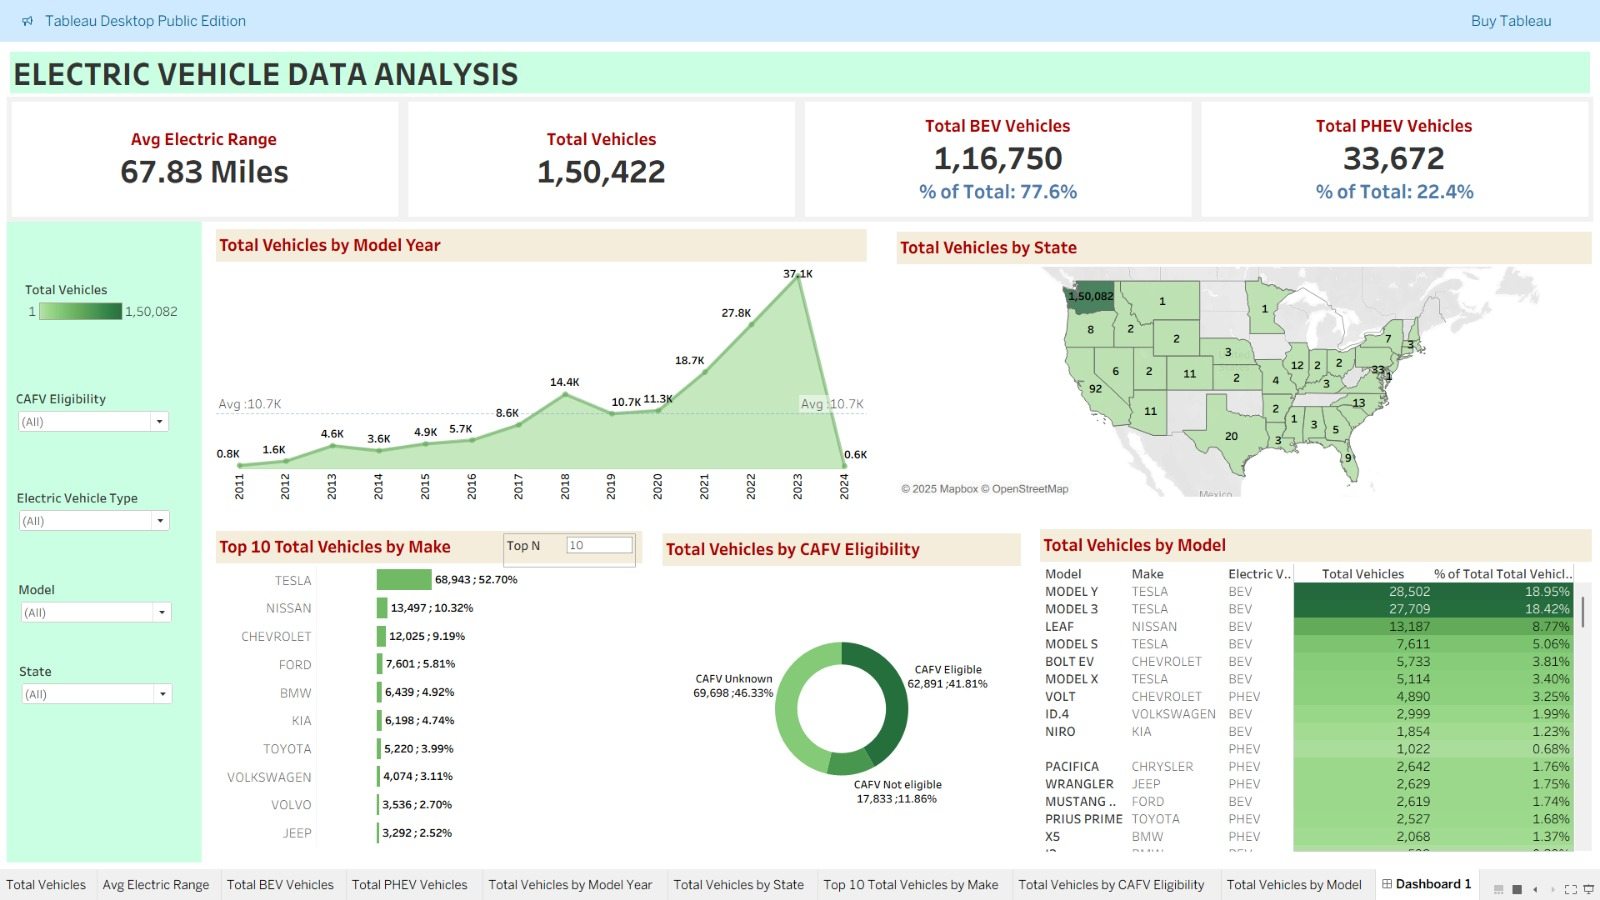

The dashboard page shown, as its layout file describes it:
{"tool":"tableau","page":{"name":"Dashboard 1","canvas":[1000,1000],"units":"permille","ordinal":0},"visuals":[{"type":"title","box":[4.9,8.9,990.2,64.5]},{"type":"worksheet","title":"Avg Electric Range","mark":"Automatic","box":[4.9,73.3,248,144.5]},{"type":"worksheet","title":"Total Vehicles","mark":"Automatic","box":[252.9,73.3,247.4,144.5]},{"type":"worksheet","title":"Total BEV Vehicles","mark":"Automatic","box":[500.3,73.3,247.4,144.5]},{"type":"worksheet","title":"Total PHEV Vehicles ","mark":"Automatic","box":[747.7,73.3,247.4,144.5]},{"type":"image","param":"C:/Users/shrad/Downloads/pngtree-vector-electric-car-icon-charging-tag-electrici","box":[4.9,217.8,122.5,396.7]},{"type":"worksheet","title":"Total Vehicles by Model Year","mark":"Area","rows":["Calculation_1268326266422685696","Calculation_1268326266422685696"],"cols":["Model Year"],"box":[134.7,226.7,407.1,330]},{"type":"worksheet","title":"Total Vehicles by State","mark":"Multipolygon","box":[560.6,230,434.5,320]},{"type":"legend","title":"Total Vehicles by State","param":"[federated.0wz12zn1996pr31a30qkf1octipj].[usr:Calculation_1268326266422685696:qk","box":[15.2,460,98.1,97.8]},{"type":"filter","title":"Total Vehicles by Model Year","param":"[federated.0wz12zn1996pr31a30qkf1octipj].[none:Clean Alternative Fuel Vehicle (C","box":[12.8,570,97.5,135.6]},{"type":"worksheet","title":"Top 10 Total Vehicles by Make","mark":"Automatic","rows":["Make"],"cols":["Calculation_1268326266422685696"],"box":[131.6,585.6,273,393.3]},{"type":"worksheet","title":"Total Vehicles by CAFV Eligibility","mark":"Pie","rows":["Calculation_1268326266443894791","Calculation_1268326266443894791"],"box":[410.7,587.8,230.3,393.3]},{"type":"worksheet","title":"Total Vehicles by Model","mark":"Square","rows":["Model","Make","Electric Vehicle Type"],"box":[650.2,588.9,344.9,390]},{"type":"parameter","param":"[Parameters].[Parameter 1]","box":[314.4,594.4,82.9,41.1]},{"type":"blank","box":[4.9,614.4,122.5,376.7]},{"type":"filter","title":"Total Vehicles by Model Year","param":"[federated.0wz12zn1996pr31a30qkf1octipj].[none:Electric Vehicle Type:nk]","box":[13.4,645.6,97.5,107.8]}]}

Visuals, with their boxes on the dashboard's canvas, which has no fixed pixel size, in thousandths of its width and height (x1, y1, x2, y2). These are canvas units, not pixel positions in the 1600x900 screenshot, which may show the page scaled, cropped or inside an application window:
title: BBox(5, 9, 995, 73)
"Avg Electric Range" worksheet: BBox(5, 73, 253, 218)
"Total Vehicles" worksheet: BBox(253, 73, 500, 218)
"Total BEV Vehicles" worksheet: BBox(500, 73, 748, 218)
"Total PHEV Vehicles " worksheet: BBox(748, 73, 995, 218)
image: BBox(5, 218, 127, 614)
"Total Vehicles by Model Year" worksheet (Area marks): BBox(135, 227, 542, 557)
"Total Vehicles by State" worksheet (Multipolygon marks): BBox(561, 230, 995, 550)
"Total Vehicles by State" legend: BBox(15, 460, 113, 558)
"Total Vehicles by Model Year" filter: BBox(13, 570, 110, 706)
"Top 10 Total Vehicles by Make" worksheet: BBox(132, 586, 405, 979)
"Total Vehicles by CAFV Eligibility" worksheet (Pie marks): BBox(411, 588, 641, 981)
"Total Vehicles by Model" worksheet (Square marks): BBox(650, 589, 995, 979)
parameter: BBox(314, 594, 397, 636)
blank: BBox(5, 614, 127, 991)
"Total Vehicles by Model Year" filter: BBox(13, 646, 111, 753)
